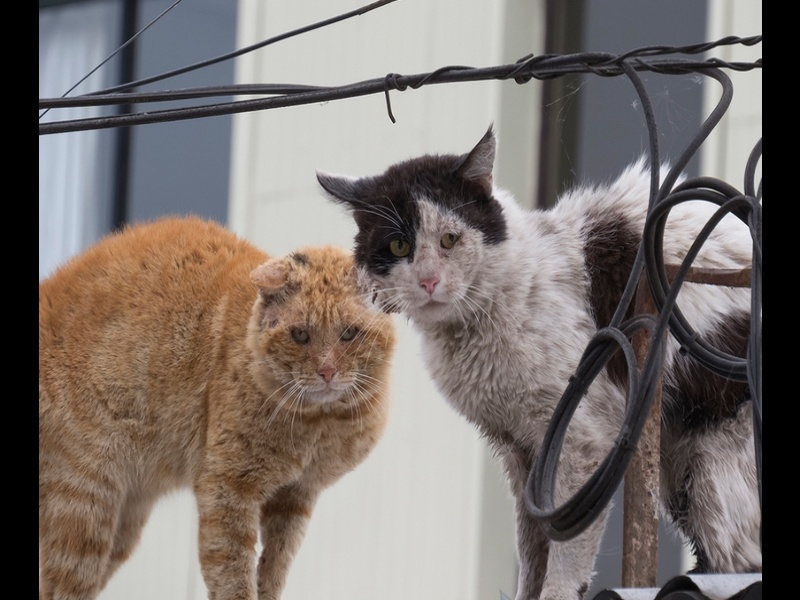cat: (317, 130, 755, 600), (43, 208, 396, 595)
